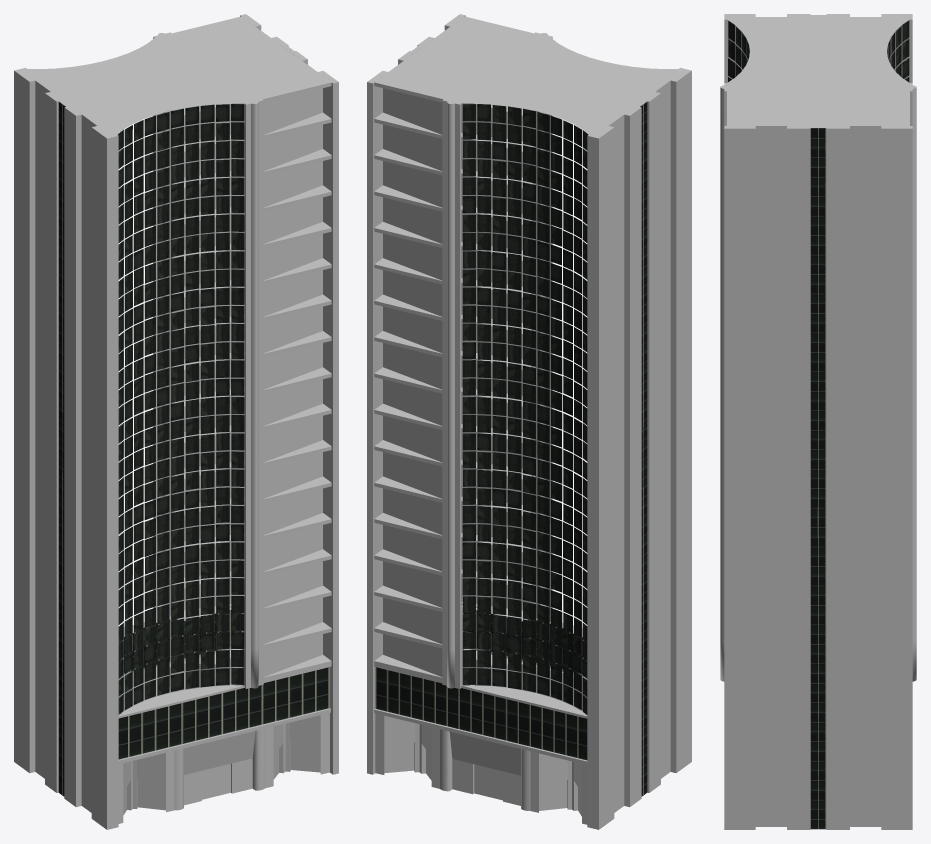
3 views of the same model, side by side, from view 1: azimuth 30°, elevation 25°; view 2: azimuth 150°, elevation 25°; view 3: azimuth 270°, elevation 25° (orthographic).
Visible parts, largest first — view 1: BC-065; view 2: BC-065; view 3: BC-065.
Boxes of the visible parts, box(x1,y1,x2,y2) form: BC-065: box(14, 14, 338, 829); BC-065: box(367, 14, 691, 829); BC-065: box(720, 14, 916, 829).
Size of what is drawn, in the model's own units: 20 by 57 by 14.45.
